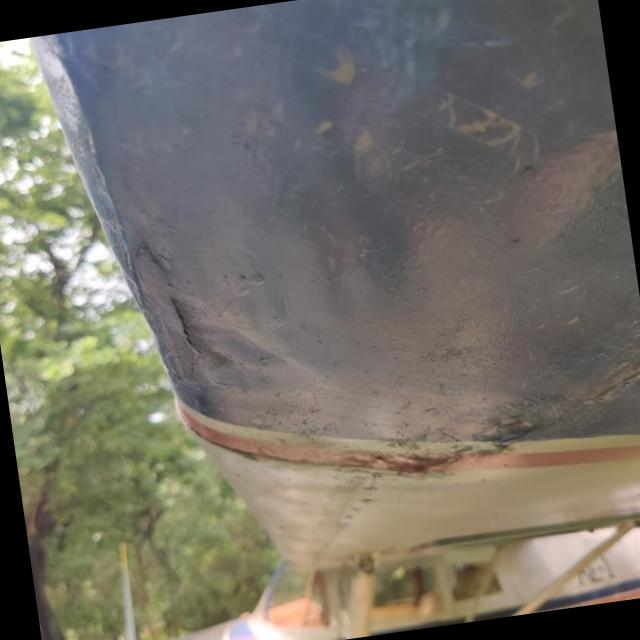Dent: (181, 252, 324, 421)
